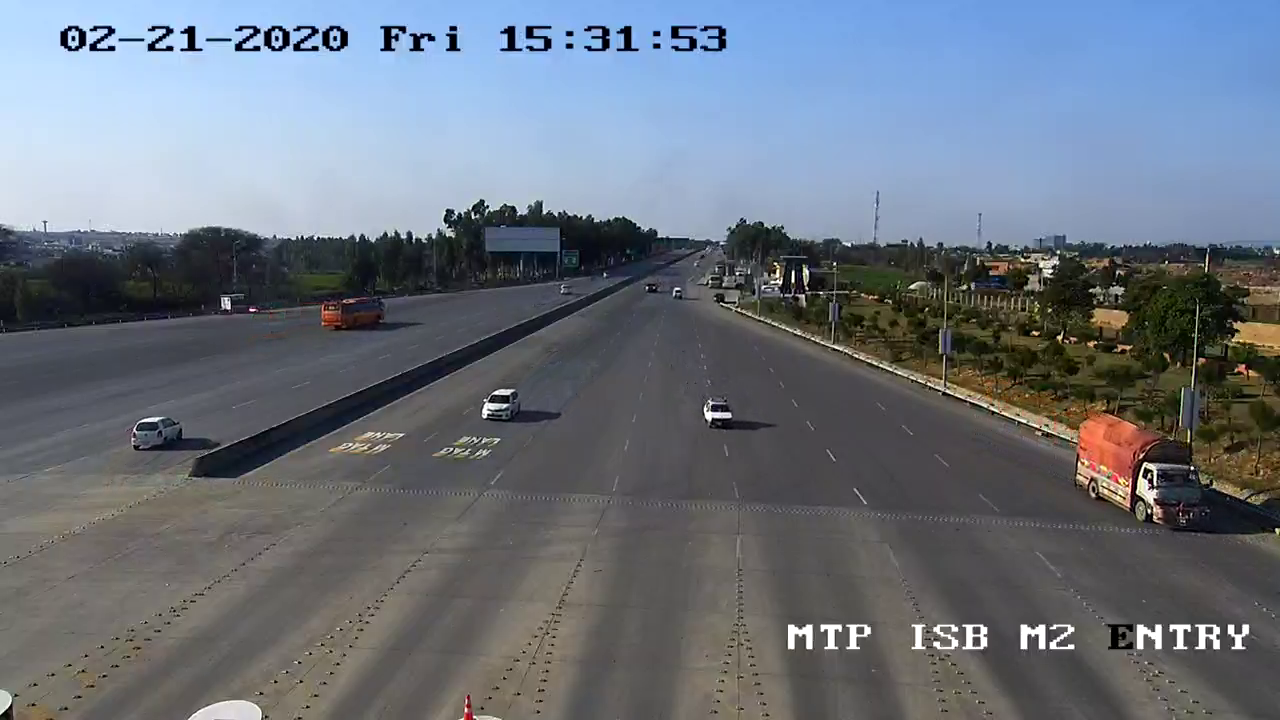f1: (471, 384, 528, 424), (695, 393, 738, 435)
f5: (1054, 406, 1214, 544)
